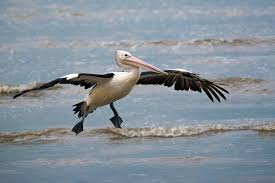pelican: (13, 50, 230, 137)
